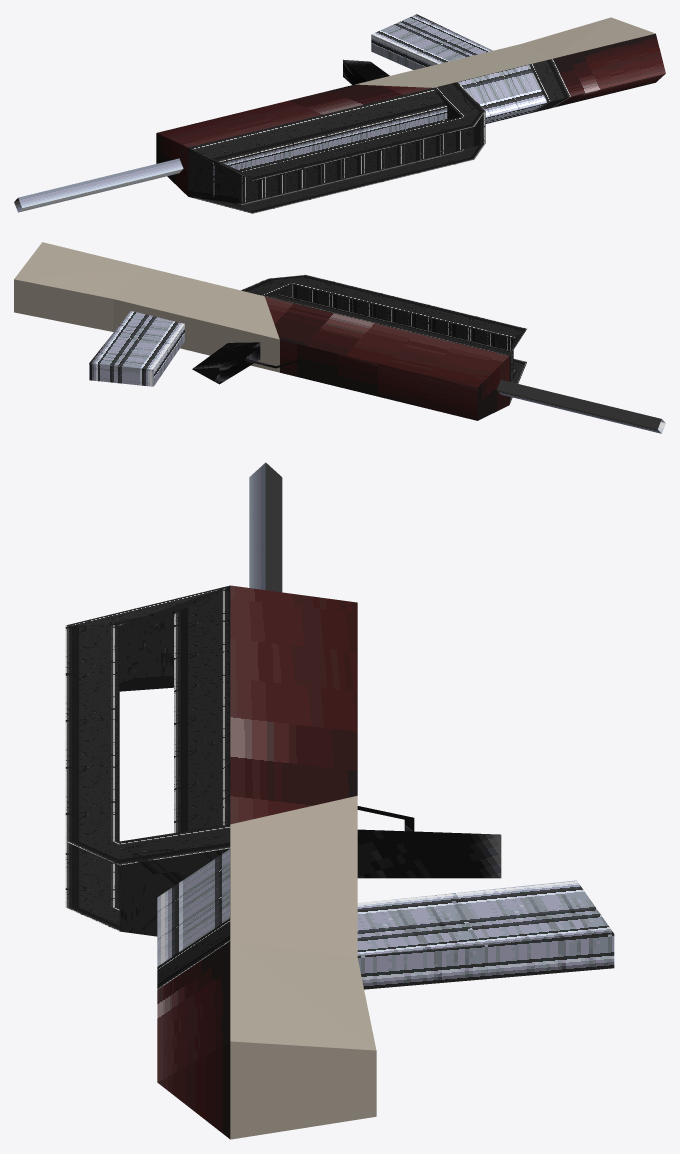
The picture shows the model from 3 angles, top to bottom: view 1: azimuth 30°, elevation 25°; view 2: azimuth 150°, elevation 25°; view 3: azimuth 270°, elevation 25°; orthographic projection. The views are drawn at different scales.
Visible parts, largest first — view 1: gun; view 2: gun; view 3: gun.
Boxes of the visible parts, box(x1,y1,x2,y2) form: gun: box(14, 14, 665, 213); gun: box(14, 242, 665, 433); gun: box(65, 462, 614, 1139).
Size of the model in its own units: 740 by 55.29 by 280.
6 materials, 6 textured.
